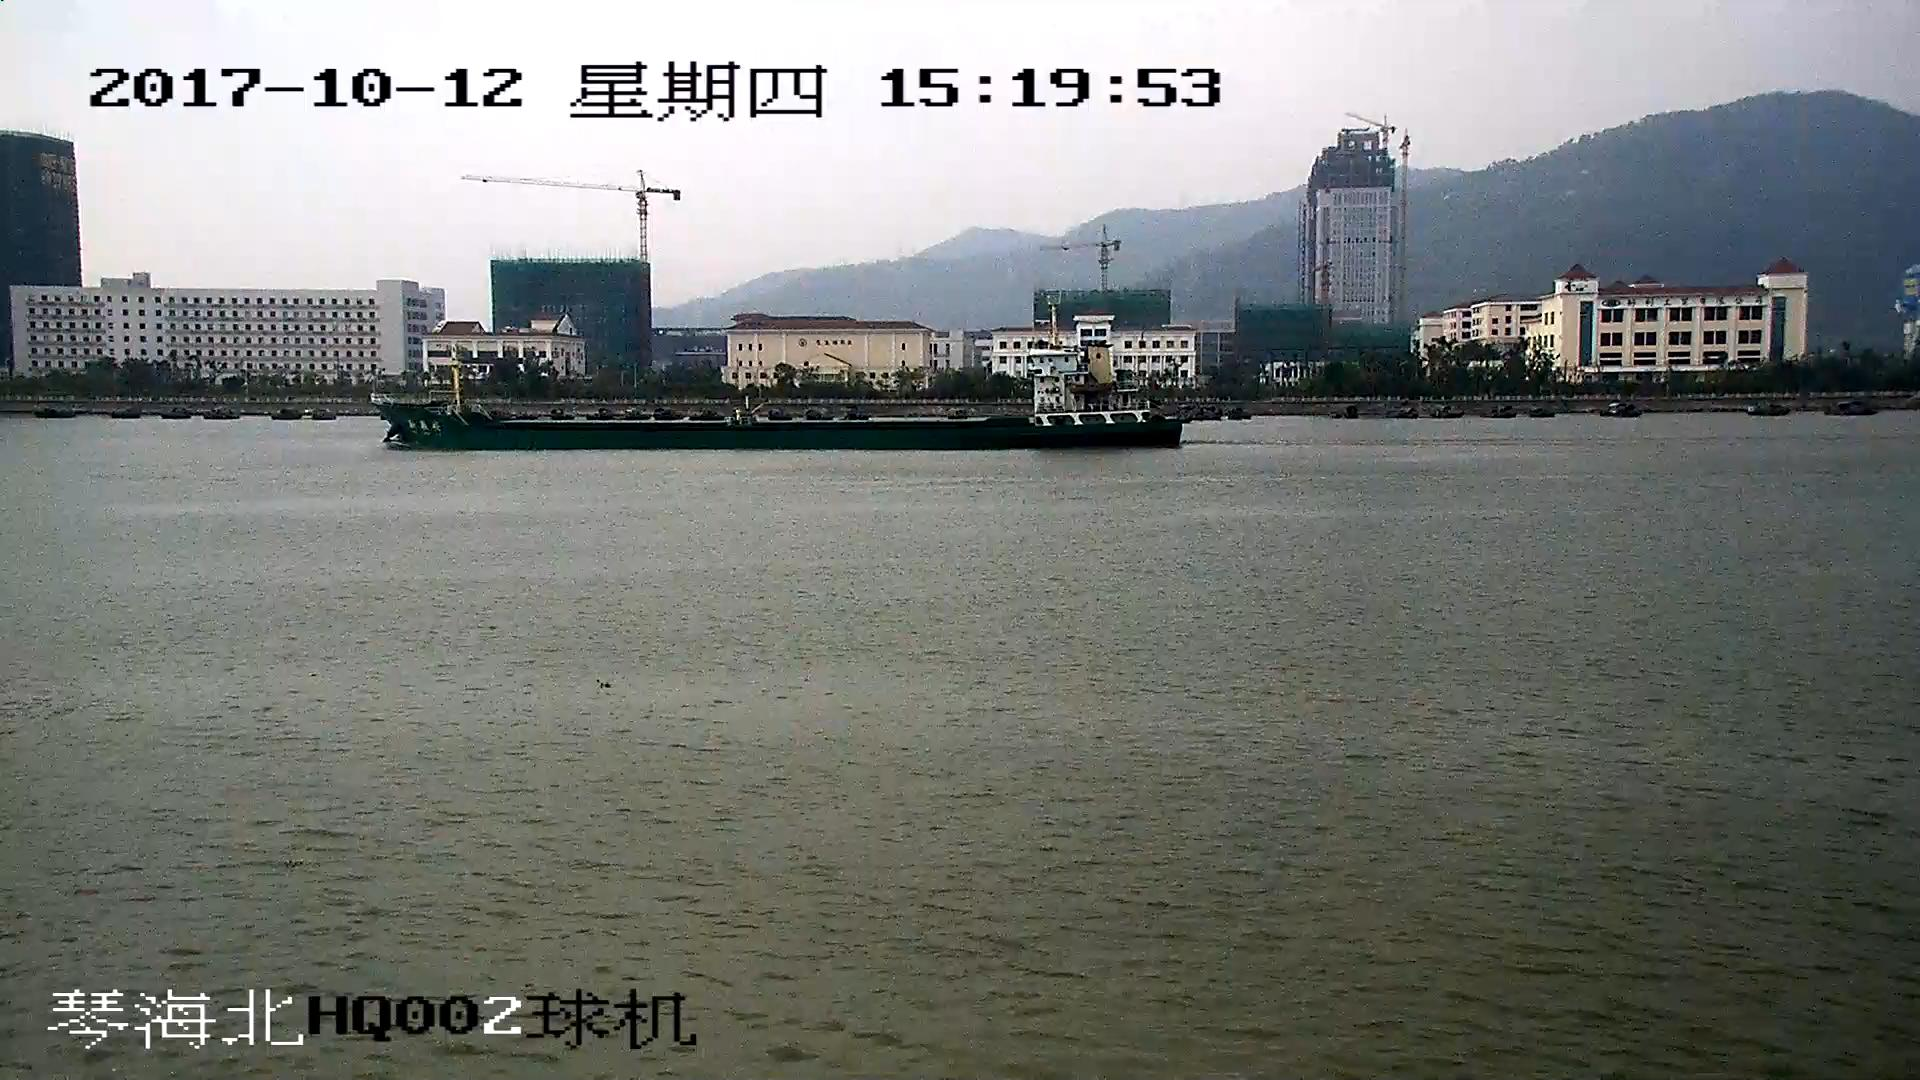general cargo ship: (374, 308, 1184, 453)
